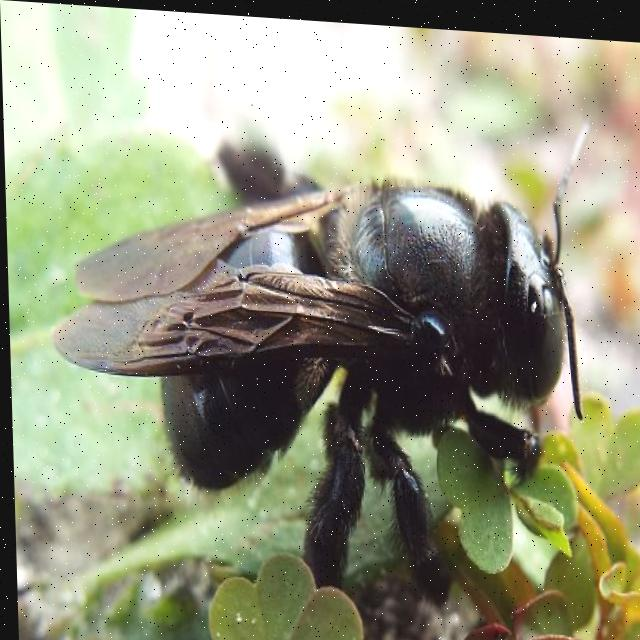Xylocopa: (51, 71, 600, 622)
